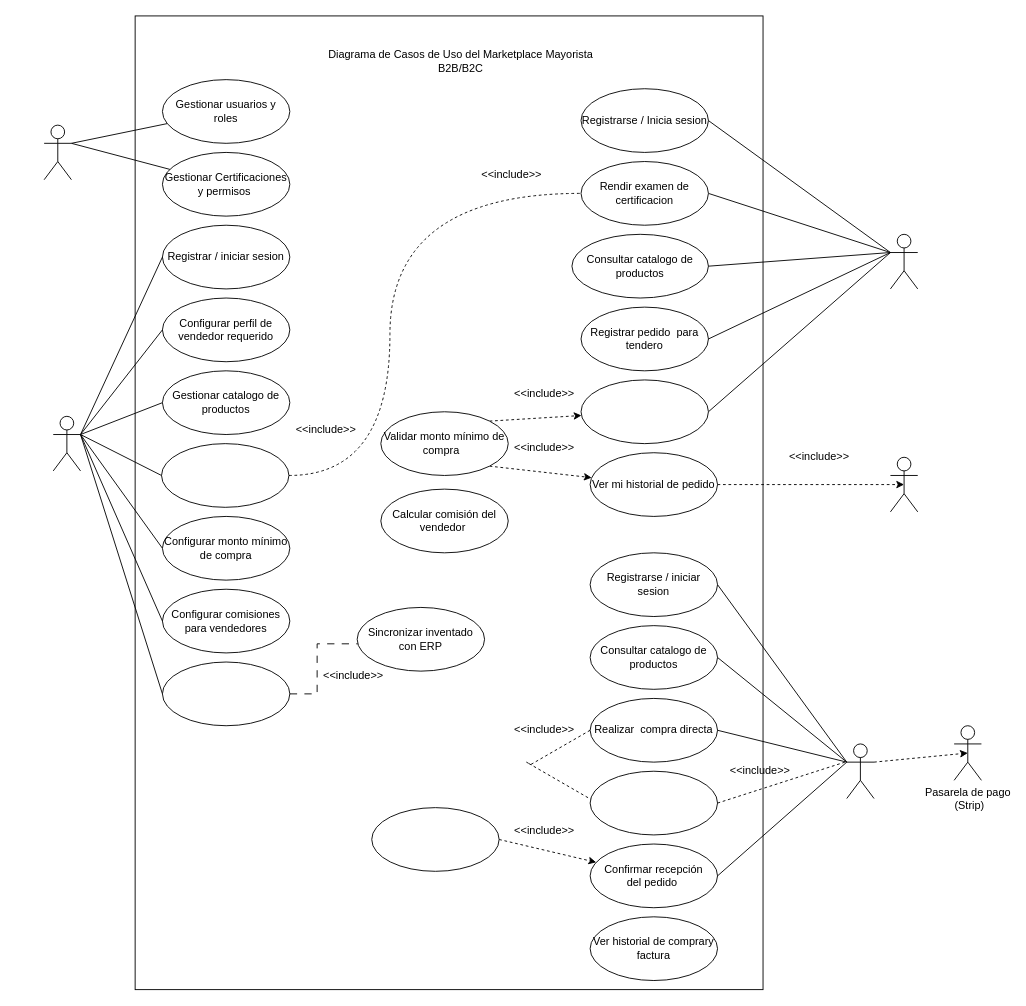
This 1026x1006 diagram has some shape labels left out. The box of each missing label's shape, as (x1, y1, x2, y2) in pixels:
Administrador (Plataforma): (43, 124, 71, 180)
Consultar mis condiciones: (580, 379, 708, 444)
Crear exámenes de certificados: (162, 661, 290, 726)
Empresa proveedora: (52, 415, 81, 471)
ERP / SIstema contable (Externo): (890, 456, 918, 512)
Gestionar inventarios (stock): (161, 443, 289, 507)
Liberar comisión al vendedor: (371, 807, 499, 871)
Pagar pedido (anticipado 50% o 100%): (589, 770, 718, 835)
Tendero (Cliente ): (846, 743, 874, 799)
VendedorFreelace: (890, 233, 918, 289)
